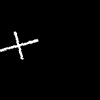single_crochet: (0, 32, 37, 58)
